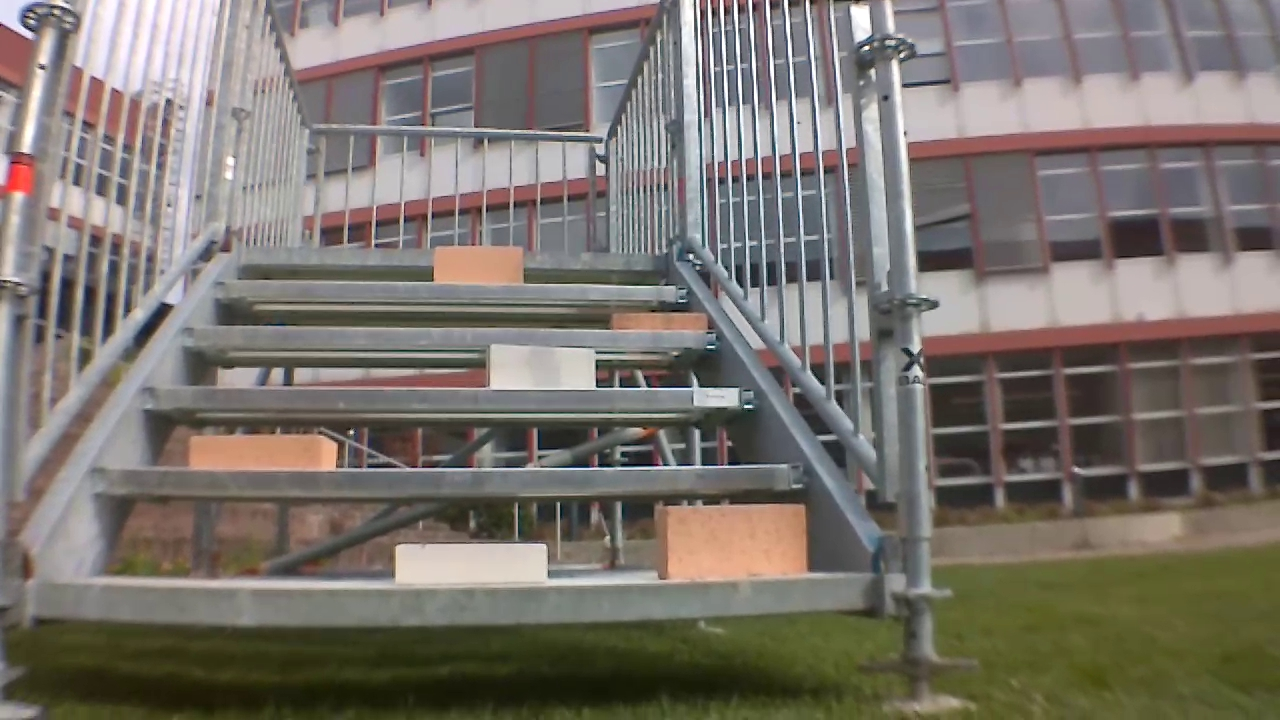brick: (657, 504, 810, 586), (389, 541, 557, 589), (175, 431, 345, 476), (486, 348, 597, 394), (431, 242, 526, 283), (611, 313, 710, 331)
edge: (29, 569, 885, 625), (91, 459, 818, 503), (145, 384, 759, 421), (173, 326, 720, 354), (210, 282, 692, 303), (235, 249, 666, 267)
stairs: (0, 8, 889, 681)
steps: (25, 251, 882, 628)
